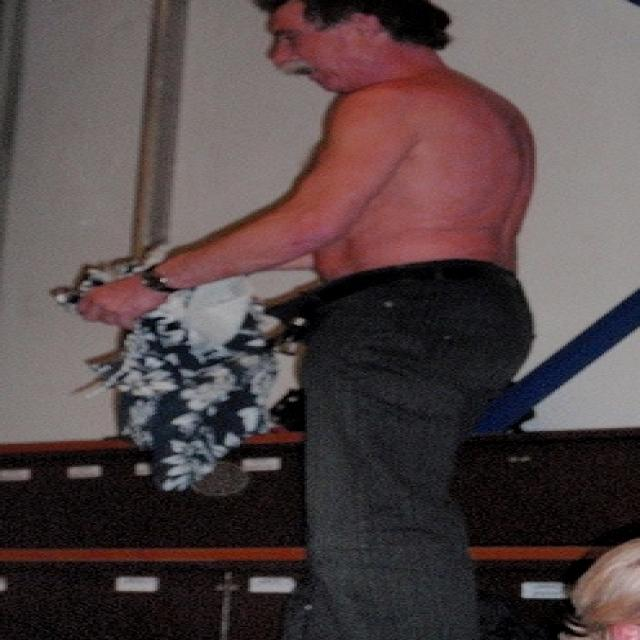piel: (73, 0, 536, 330)
